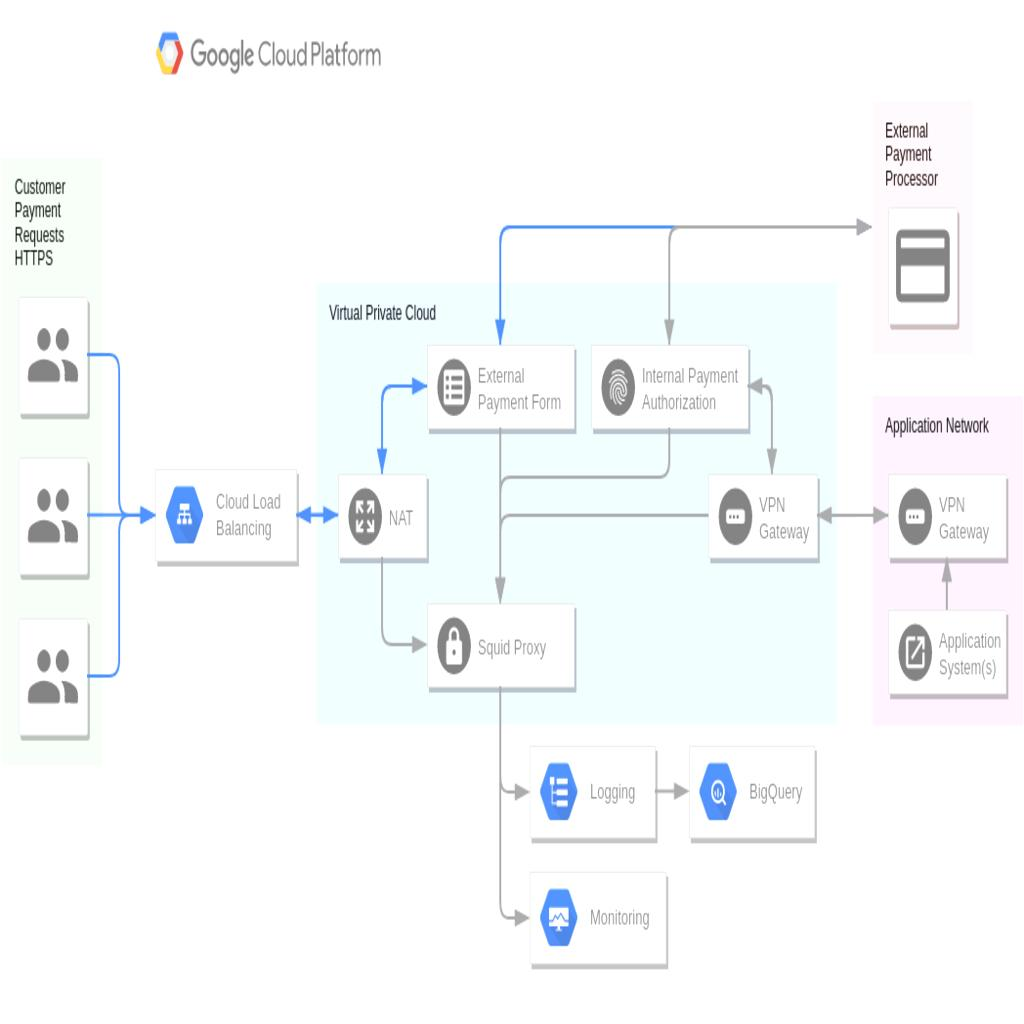actor: (16, 304, 86, 413), (16, 616, 86, 725), (16, 458, 86, 566), (886, 212, 956, 320)
api_gateway: (155, 468, 298, 564)
compute: (590, 338, 749, 436), (426, 338, 574, 436), (530, 871, 666, 968), (529, 742, 657, 839), (888, 605, 1006, 702)
data_flow: (686, 228, 856, 438), (416, 150, 585, 309), (498, 432, 667, 520), (86, 428, 125, 596), (498, 514, 708, 520), (585, 227, 785, 232), (498, 691, 503, 865), (498, 435, 503, 599), (380, 560, 386, 648), (380, 382, 386, 468), (944, 560, 950, 606), (818, 514, 886, 518), (383, 384, 426, 390), (383, 642, 426, 648), (112, 510, 154, 514), (500, 788, 528, 793), (500, 917, 528, 922), (658, 788, 685, 793), (93, 356, 118, 361), (93, 668, 118, 673), (301, 510, 317, 514)
database_storage: (688, 742, 816, 839)
network_security: (426, 596, 574, 694), (888, 468, 1006, 564), (708, 468, 818, 564), (338, 468, 428, 564)
trust_boundary: (136, 5, 857, 1019), (316, 280, 836, 724), (0, 156, 102, 766), (870, 396, 1024, 726), (870, 102, 972, 358)
